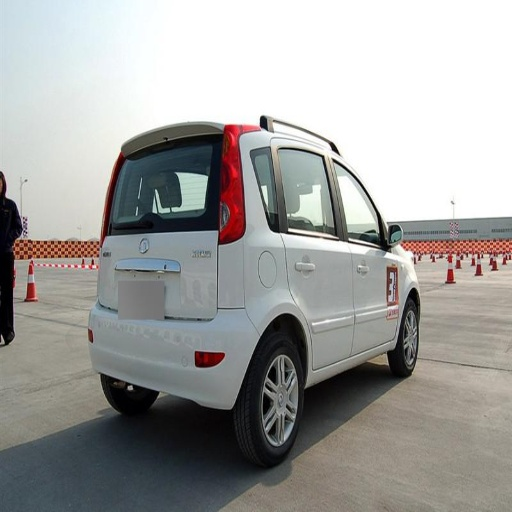back_bumper: (87, 305, 259, 407)
back_right_door: (273, 142, 351, 367)
trunk: (99, 230, 240, 335)
